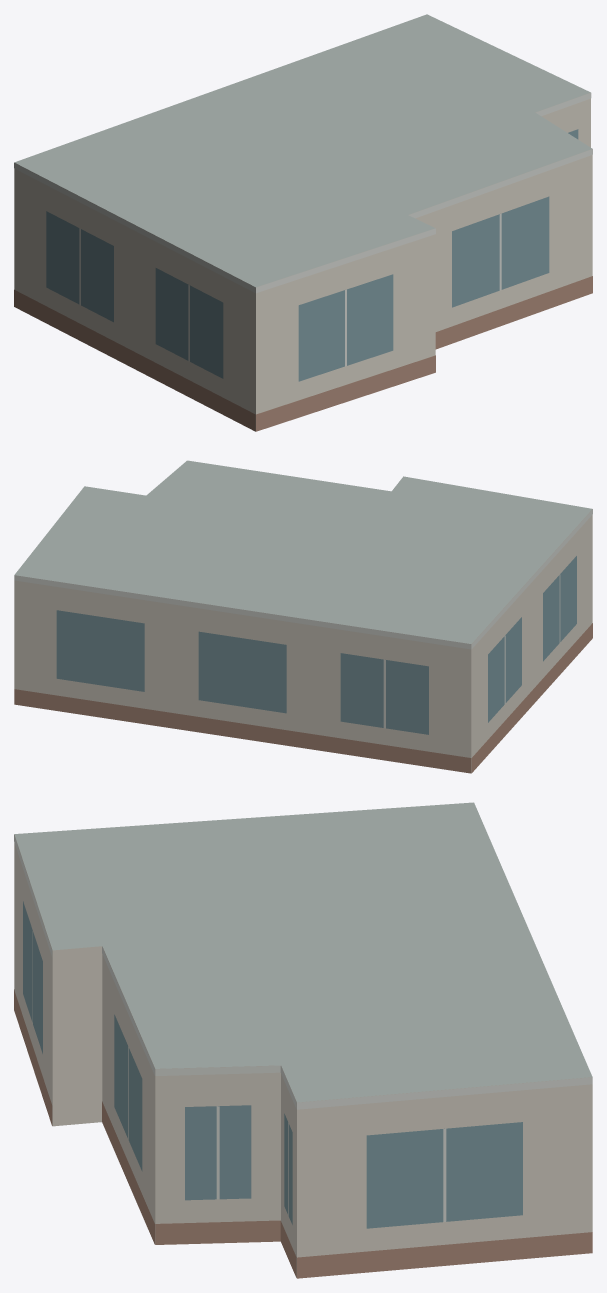
File: survey-upis-32631308.glb
3 views of the same model, one above another, from view 1: azimuth 30°, elevation 25°; view 2: azimuth 150°, elevation 25°; view 3: azimuth 270°, elevation 25° (orthographic). The views are drawn at different scales.
Parts seen in each view (by area): view 1: survey-upis-32631308.tmp; view 2: survey-upis-32631308.tmp; view 3: survey-upis-32631308.tmp.
Part boxes in pixels (box(x1,y1,x2,y2)): survey-upis-32631308.tmp: box(14, 14, 592, 431); survey-upis-32631308.tmp: box(14, 460, 592, 773); survey-upis-32631308.tmp: box(14, 802, 592, 1278).
Size of the model in its own units: 11.17 by 3.05 by 9.1.
